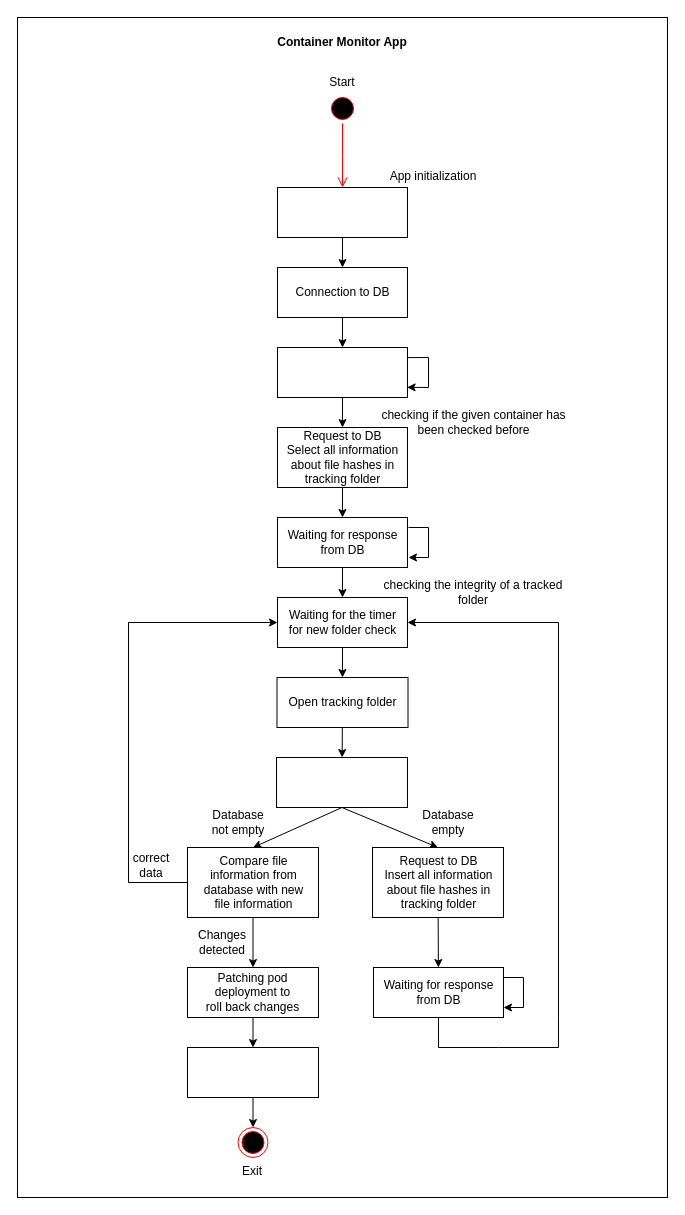
This 685x1215 diagram has some shape labels left out. The shapes that lost their labels are listed below. From the top down, each one's box as (x1, y1, x2, y2) in pixels, then its label:
(276, 186, 408, 238): Reading configs and env variables
(276, 346, 408, 398): Waiting for connection
(276, 756, 408, 808): Compute hash of each file in folder
(186, 1046, 318, 1098): App restarting
